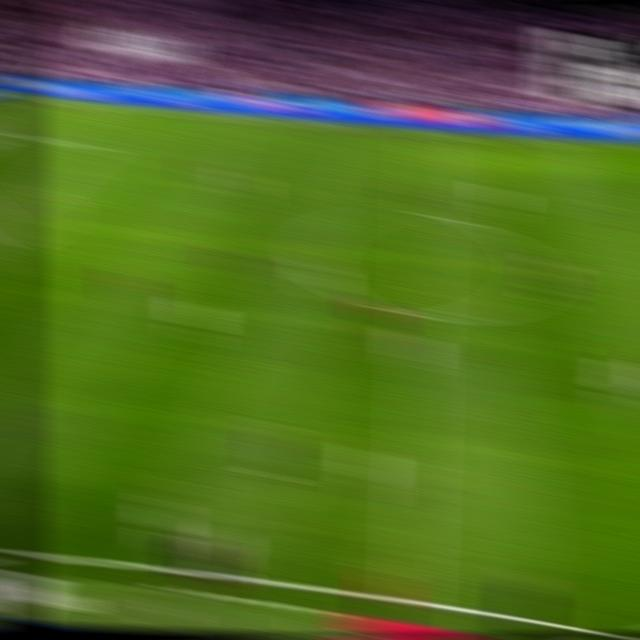bigarea_top_inner: (78, 135, 110, 154)
halfcircle_bottom: (404, 299, 439, 328)
halfcircle_top: (407, 201, 442, 228)
midline_bottom_intersection: (392, 588, 429, 612)
midline_top_intersection: (413, 124, 443, 142)
top_arc_area_intersection: (25, 177, 56, 196)
